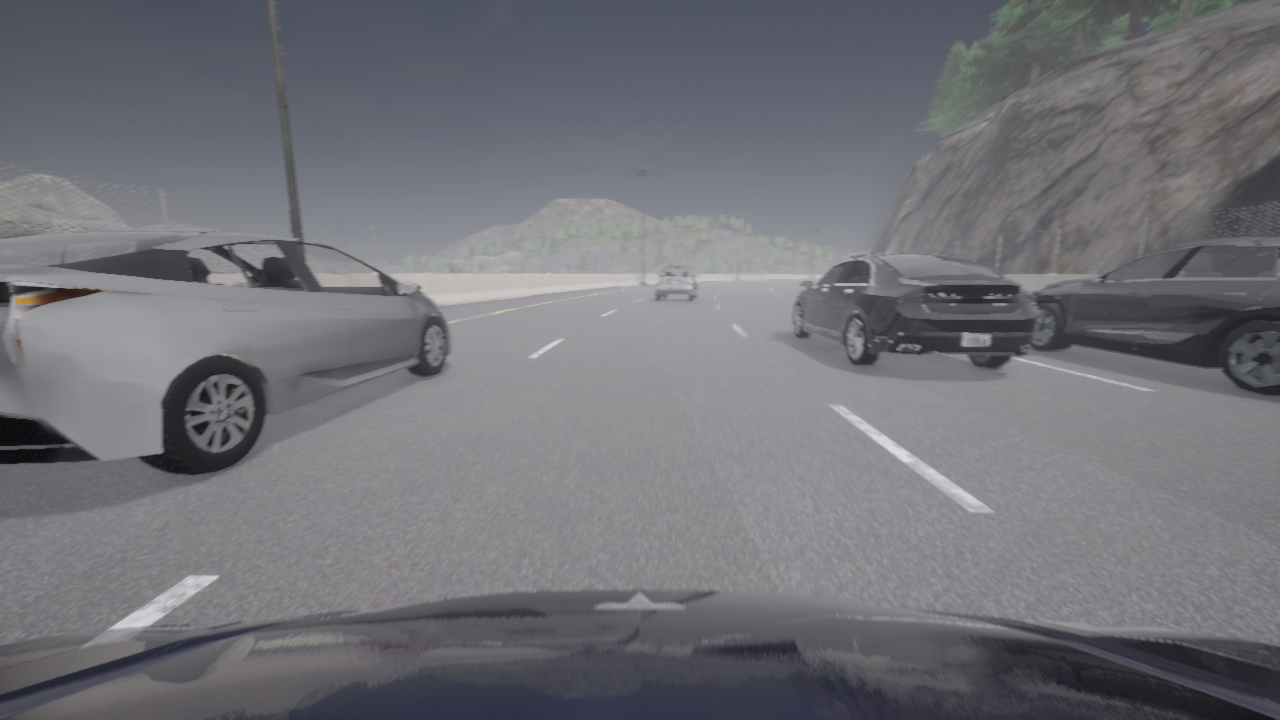cyclist: (0, 588, 1279, 719), (0, 231, 452, 475), (1030, 237, 1279, 395), (791, 252, 1038, 368), (655, 264, 698, 301), (850, 254, 868, 256)
